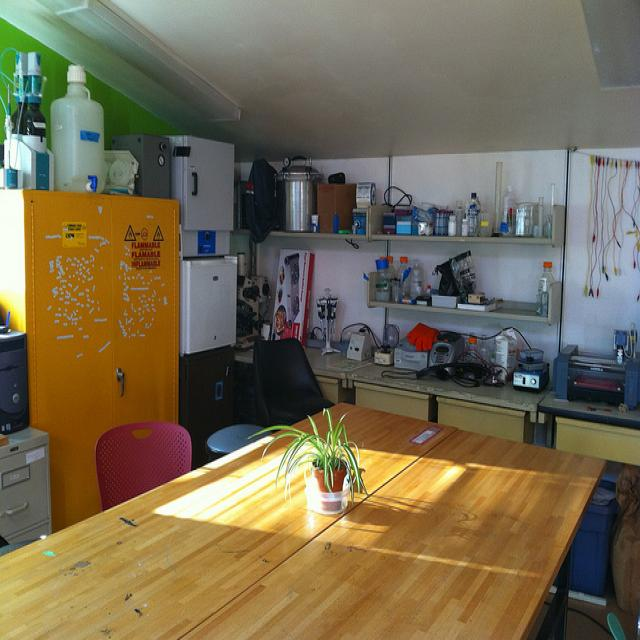chair: (253, 336, 340, 432), (96, 424, 188, 510)
dining table: (0, 399, 607, 632)
